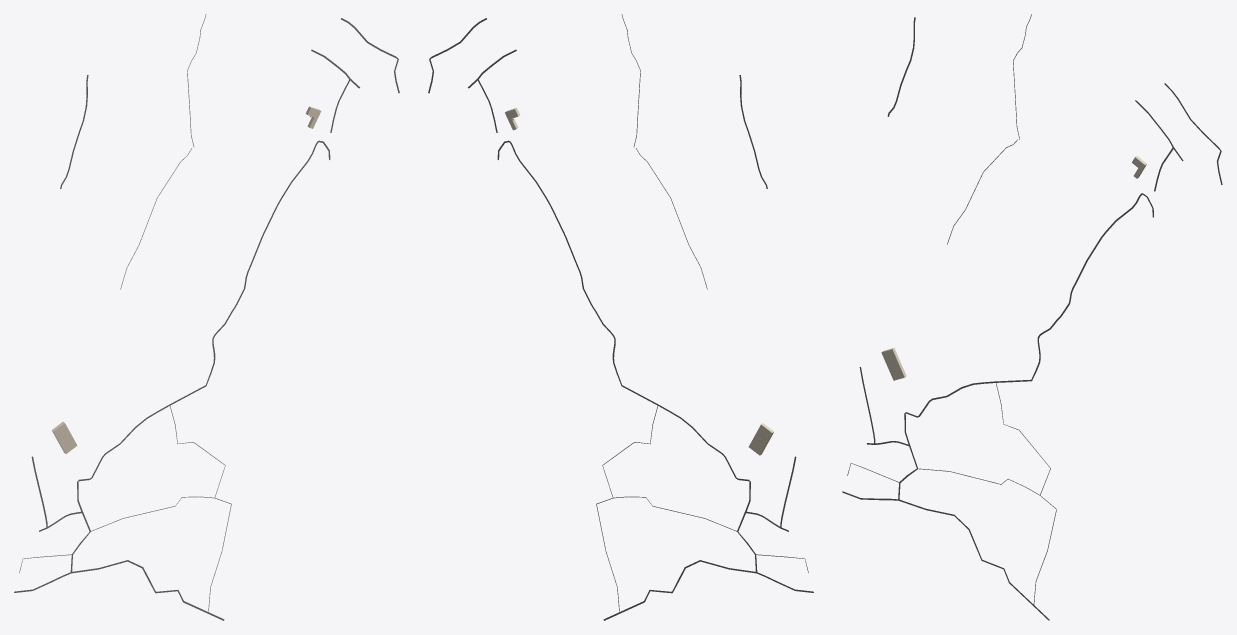
File: historic-palestine-08_27_3500_3215.glb
3 renders of one model, left to right at view 1: azimuth 30°, elevation 25°; view 2: azimuth 150°, elevation 25°; view 3: azimuth 330°, elevation 25°, orthographic.
Visible parts, largest first — view 1: Road .007; view 2: Road .007; view 3: Road .007, Road .002.
Boxes of the visible parts, box(x1,y1,x2,y2) form: Road .007: box(77, 206, 277, 500); Road .007: box(550, 206, 750, 500); Road .007: box(904, 237, 1101, 432); Road .002: box(842, 491, 1049, 620).
Bounding box in the file's own units: 846 × 1280 × 8.7.
